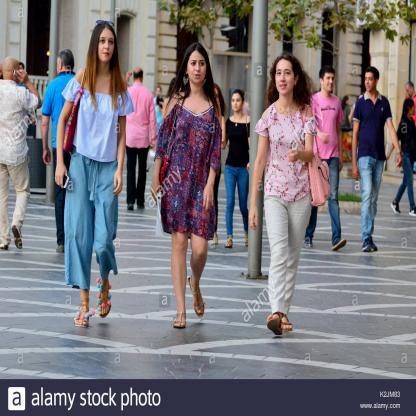person: (61, 20, 132, 326), (152, 44, 224, 328), (256, 54, 318, 334), (42, 48, 82, 253), (348, 67, 390, 253), (307, 66, 346, 250), (0, 56, 35, 254), (220, 88, 252, 250), (121, 66, 156, 212), (395, 97, 415, 220)
